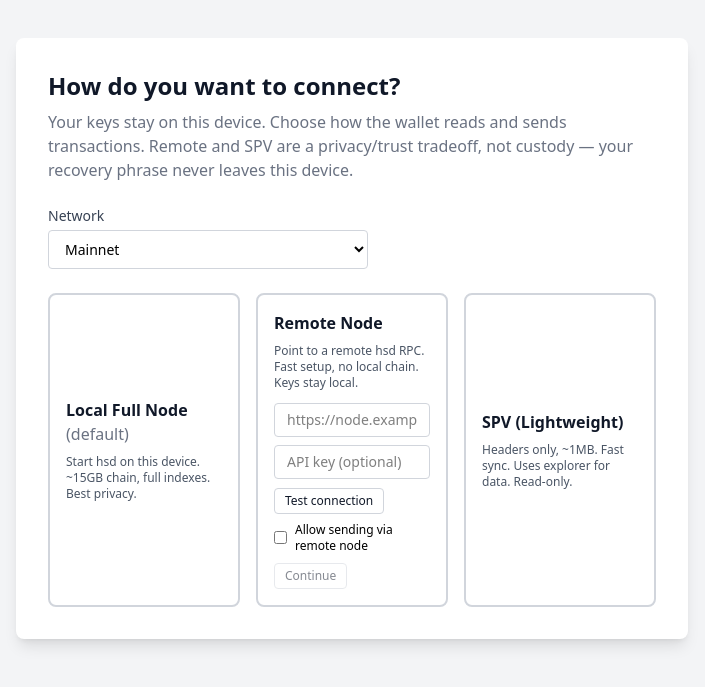
Test: Onboarding — Connection choice › editing the URL after a successful probe invalidates it and disables Continue
Type "https://a.example.com:12037" into the field with test id "remote-url-input".
click(352, 420); type("https://a.example.com:12037")  # box [274,402,430,436]
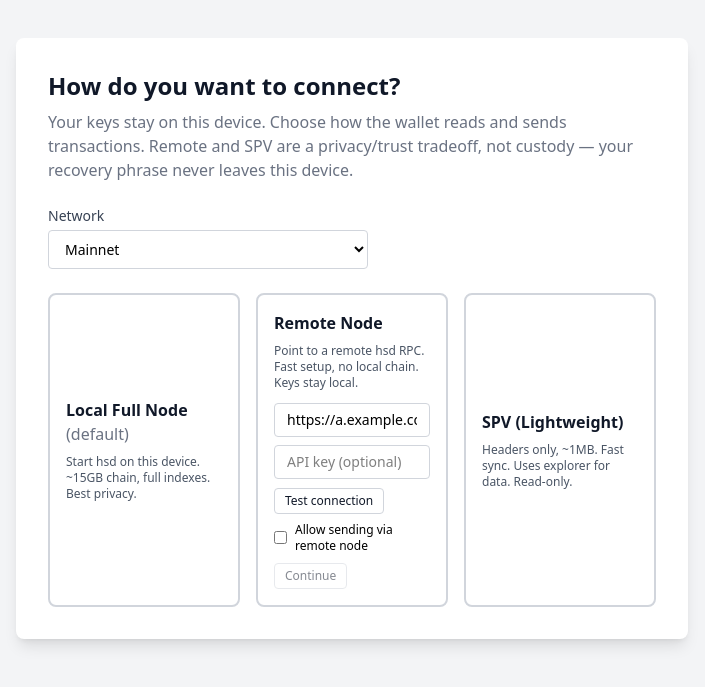
Click the button with test id "test-connection-button".
click(329, 500)  # box [274,488,384,514]
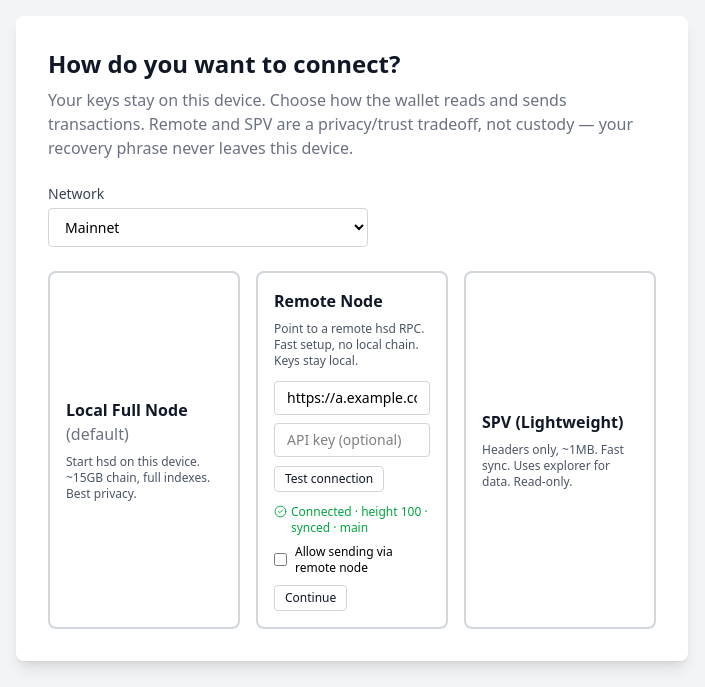
expect the element with test id "connection-success" is shown: met, box [274,504,430,522]
expect the button with test id "select-remote-button" is enabled: met, box [274,584,347,610]
Replace the text in the field with test id "remote-url-input" with "https://b.example.com:12037" at (352, 398), box [274,380,430,414]
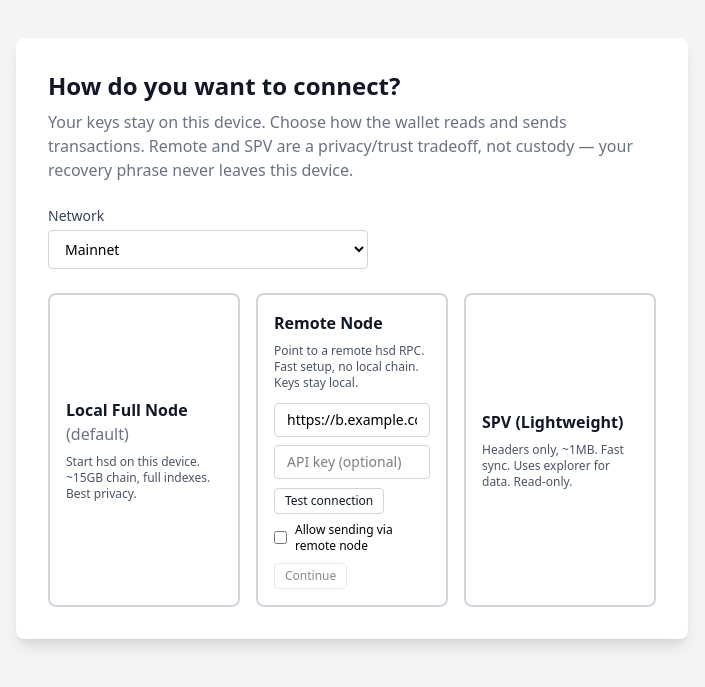
expect the element with test id "connection-success" is gone: met
expect the button with test id "select-remote-button" is disabled: met, box [274,562,347,588]
